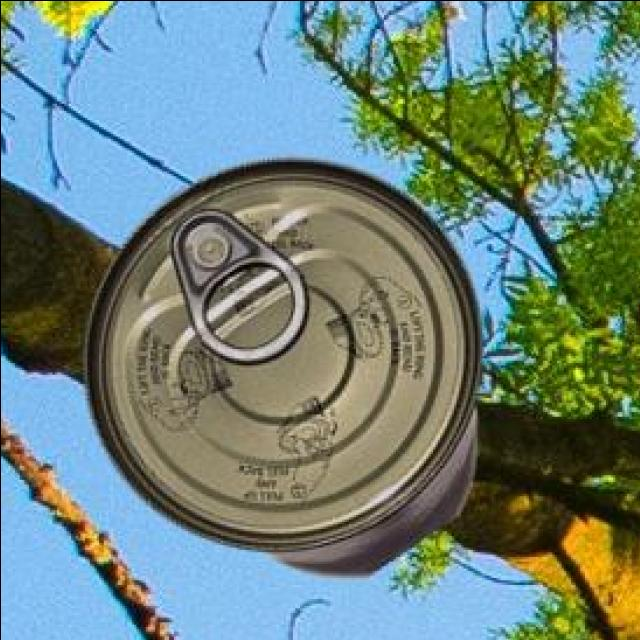logam: (88, 162, 485, 580)
